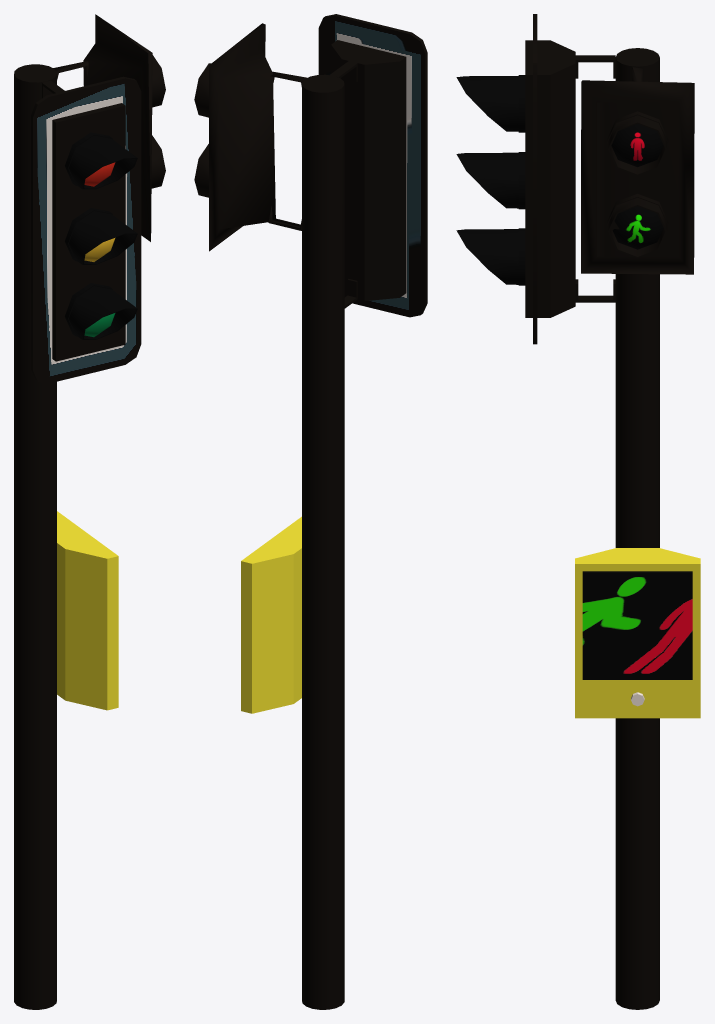
The model's file is TrafficLight.fbx.
3 renders of one model, left to right at view 1: azimuth 30°, elevation 25°; view 2: azimuth 150°, elevation 25°; view 3: azimuth 270°, elevation 25°, orthographic. The views are drawn at different scales.
Parts seen in each view (by area): view 1: Cylinder.011, Cube.005, Cube.003, Cube.004, Cylinder.010, Cylinder.009, Cylinder.008, Cylinder.006, Cylinder.007; view 2: Cylinder.011, Cube.005, Cube.004, Cube.003, Cylinder.007, Cylinder.006; view 3: Cylinder.011, Cube.003, Cube.004, Cube.005, Cylinder.006, Cylinder.007, Cylinder.008, Cylinder.009, Cylinder.010.
Boxes of the visible parts, x1,y1,x2,y2 form: Cylinder.011: (14, 64, 56, 1009); Cube.005: (31, 76, 141, 383); Cube.003: (57, 511, 118, 710); Cube.004: (53, 14, 152, 241); Cylinder.010: (65, 132, 137, 189); Cylinder.009: (65, 283, 137, 339); Cylinder.008: (65, 208, 137, 264); Cylinder.006: (151, 135, 165, 188); Cylinder.007: (152, 55, 165, 107); Cylinder.011: (302, 74, 344, 1009); Cube.005: (318, 14, 427, 317); Cube.004: (209, 23, 306, 251); Cube.003: (241, 516, 301, 713); Cylinder.007: (194, 63, 210, 117); Cylinder.006: (194, 144, 208, 197); Cylinder.011: (615, 48, 659, 1009); Cube.003: (575, 548, 700, 718); Cube.004: (581, 67, 694, 274); Cube.005: (525, 14, 615, 344); Cylinder.006: (607, 193, 668, 258); Cylinder.007: (607, 111, 668, 175); Cylinder.008: (456, 152, 525, 209); Cylinder.009: (456, 228, 525, 285); Cylinder.010: (456, 75, 525, 132).
Bounding box in the file's own units: 85.57 × 458 × 105.
